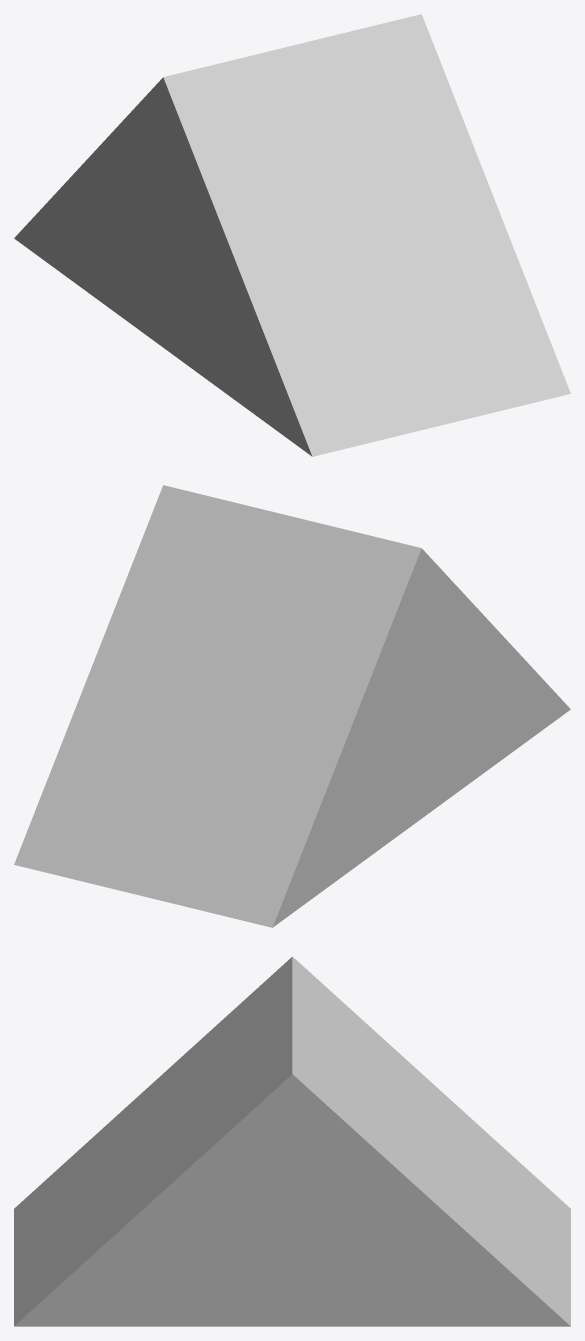
The model's file is DoubleKicker.fbx.
3 renders of one model, top to bottom at view 1: azimuth 30°, elevation 25°; view 2: azimuth 150°, elevation 25°; view 3: azimuth 270°, elevation 25°, orthographic. The views are drawn at different scales.
Visible parts, largest first — view 1: DoubleKicker; view 2: DoubleKicker; view 3: DoubleKicker.
Boxes of the visible parts, box(x1,y1,x2,y2) form: DoubleKicker: box(14, 14, 570, 456); DoubleKicker: box(14, 485, 570, 927); DoubleKicker: box(14, 956, 570, 1326).
Size of the model in its own units: 1 by 2 by 1.
